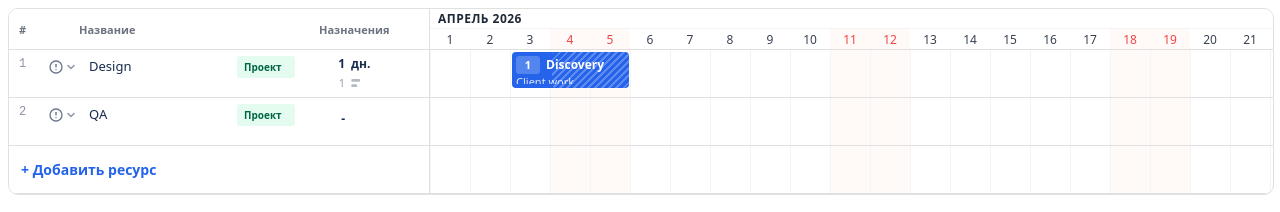
Test case: ResourceTimelineChart › confirms a new resource name from the add-resource row
Click the button "+ Добавить ресурс" at (89,170), box x1=9 y1=146 x2=429 y2=194
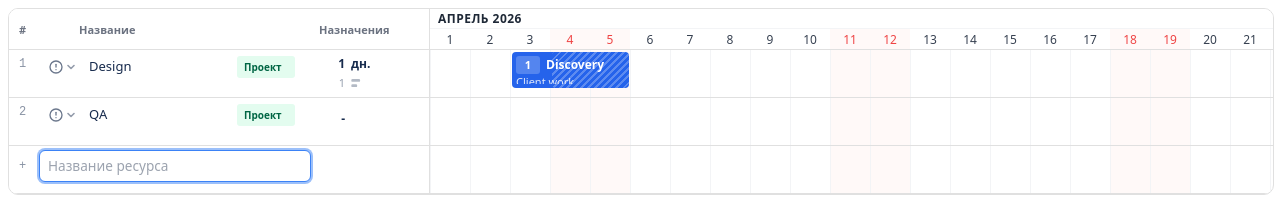
Type "Install Crew" into the field with placeholder "Название ресурса" at (175,166), box x1=39 y1=150 x2=311 y2=182
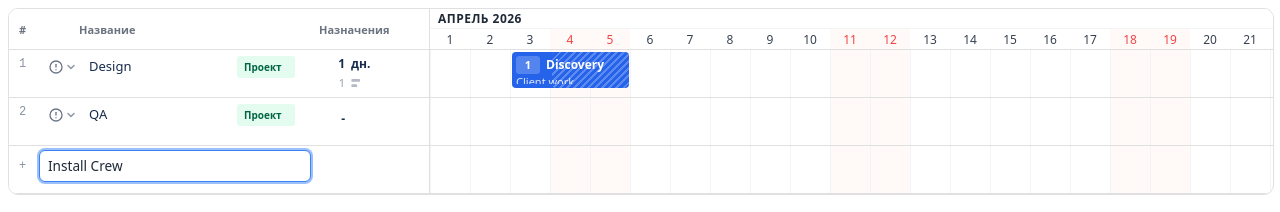
Press Enter in the field with placeholder "Название ресурса", box x1=39 y1=150 x2=311 y2=182
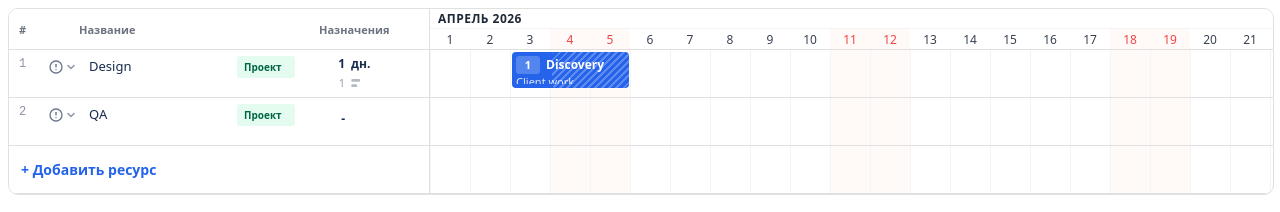
Now the button "+ Добавить ресурс" is shown, box x1=9 y1=146 x2=429 y2=194
